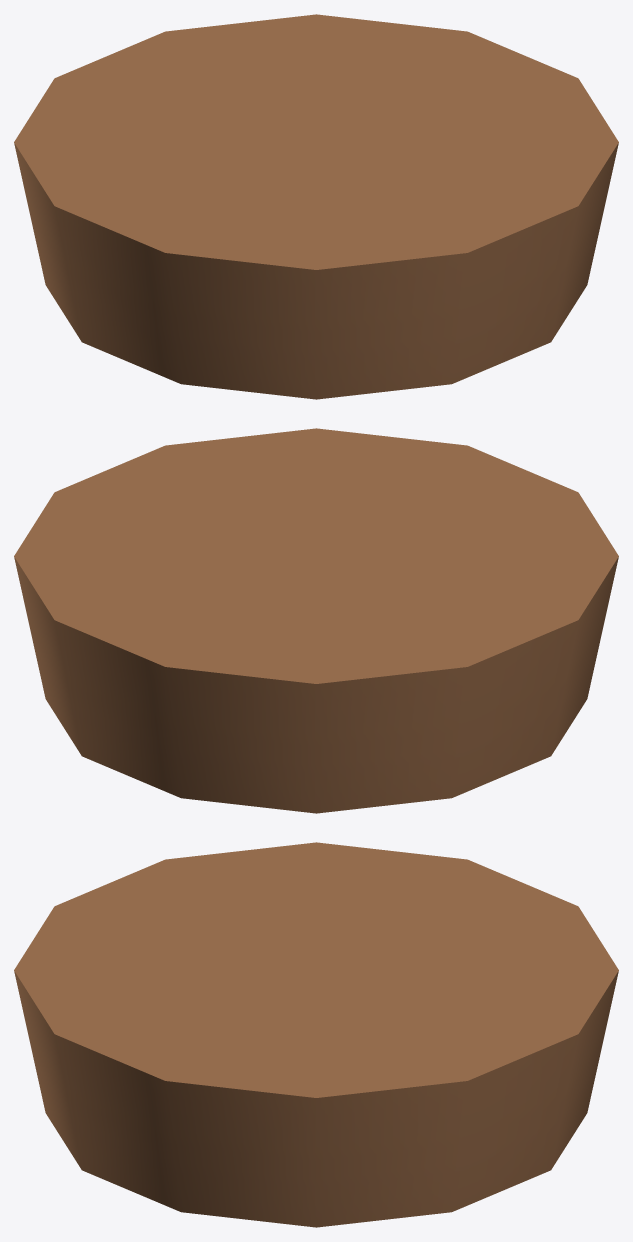
File: JarLid2.fbx
The picture shows the model from 3 angles, top to bottom: view 1: azimuth 30°, elevation 25°; view 2: azimuth 150°, elevation 25°; view 3: azimuth 270°, elevation 25°; orthographic projection.
Parts seen in each view (by area): view 1: JarLid2; view 2: JarLid2; view 3: JarLid2.
Boxes of the visible parts, <box> form: JarLid2: <box>14,14,618,399</box>; JarLid2: <box>14,428,618,813</box>; JarLid2: <box>14,842,618,1227</box>.
Bounding box in the file's own units: 6.18 × 1.61 × 6.18.
